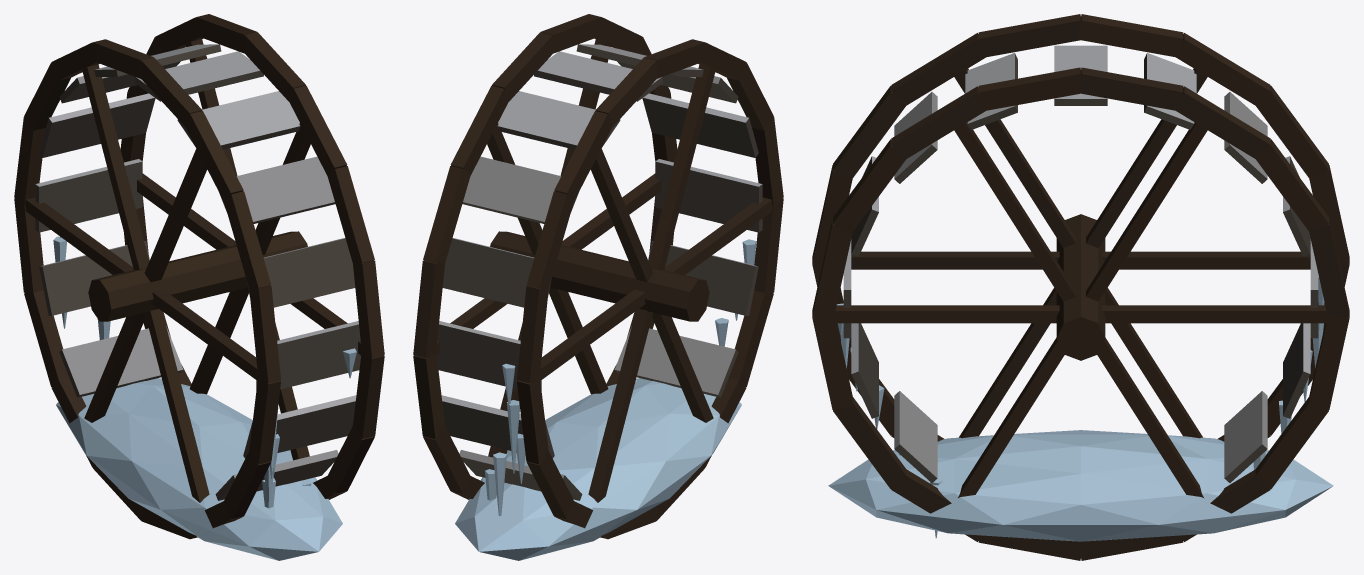
Rendered from village_mill_wheel.glb.
The picture shows the model from 3 angles, left to right: view 1: azimuth 30°, elevation 25°; view 2: azimuth 150°, elevation 25°; view 3: azimuth 270°, elevation 25°; orthographic projection. The views are drawn at different scales.
Parts seen in each view (by area): view 1: village_mill_wheel; view 2: village_mill_wheel; view 3: village_mill_wheel.
Part boxes in pixels (left/top/right/bottom): village_mill_wheel: left=14, top=14, right=384, bottom=560; village_mill_wheel: left=413, top=14, right=783, bottom=560; village_mill_wheel: left=812, top=14, right=1349, bottom=560.
Size of the model in its own units: 2.5 by 5.52 by 5.52.
